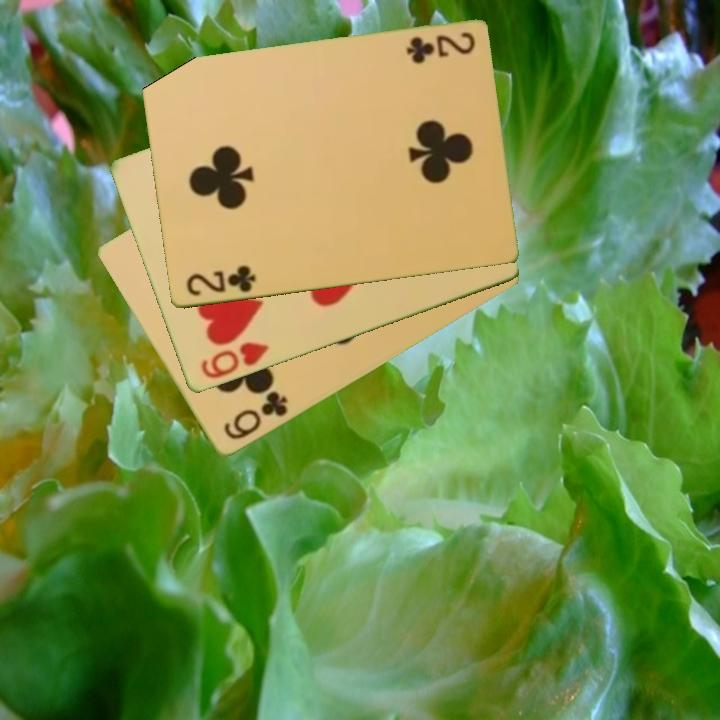2c: (182, 262, 258, 300), (402, 29, 478, 65)
6c: (220, 388, 291, 444)
6h: (197, 339, 271, 382)
